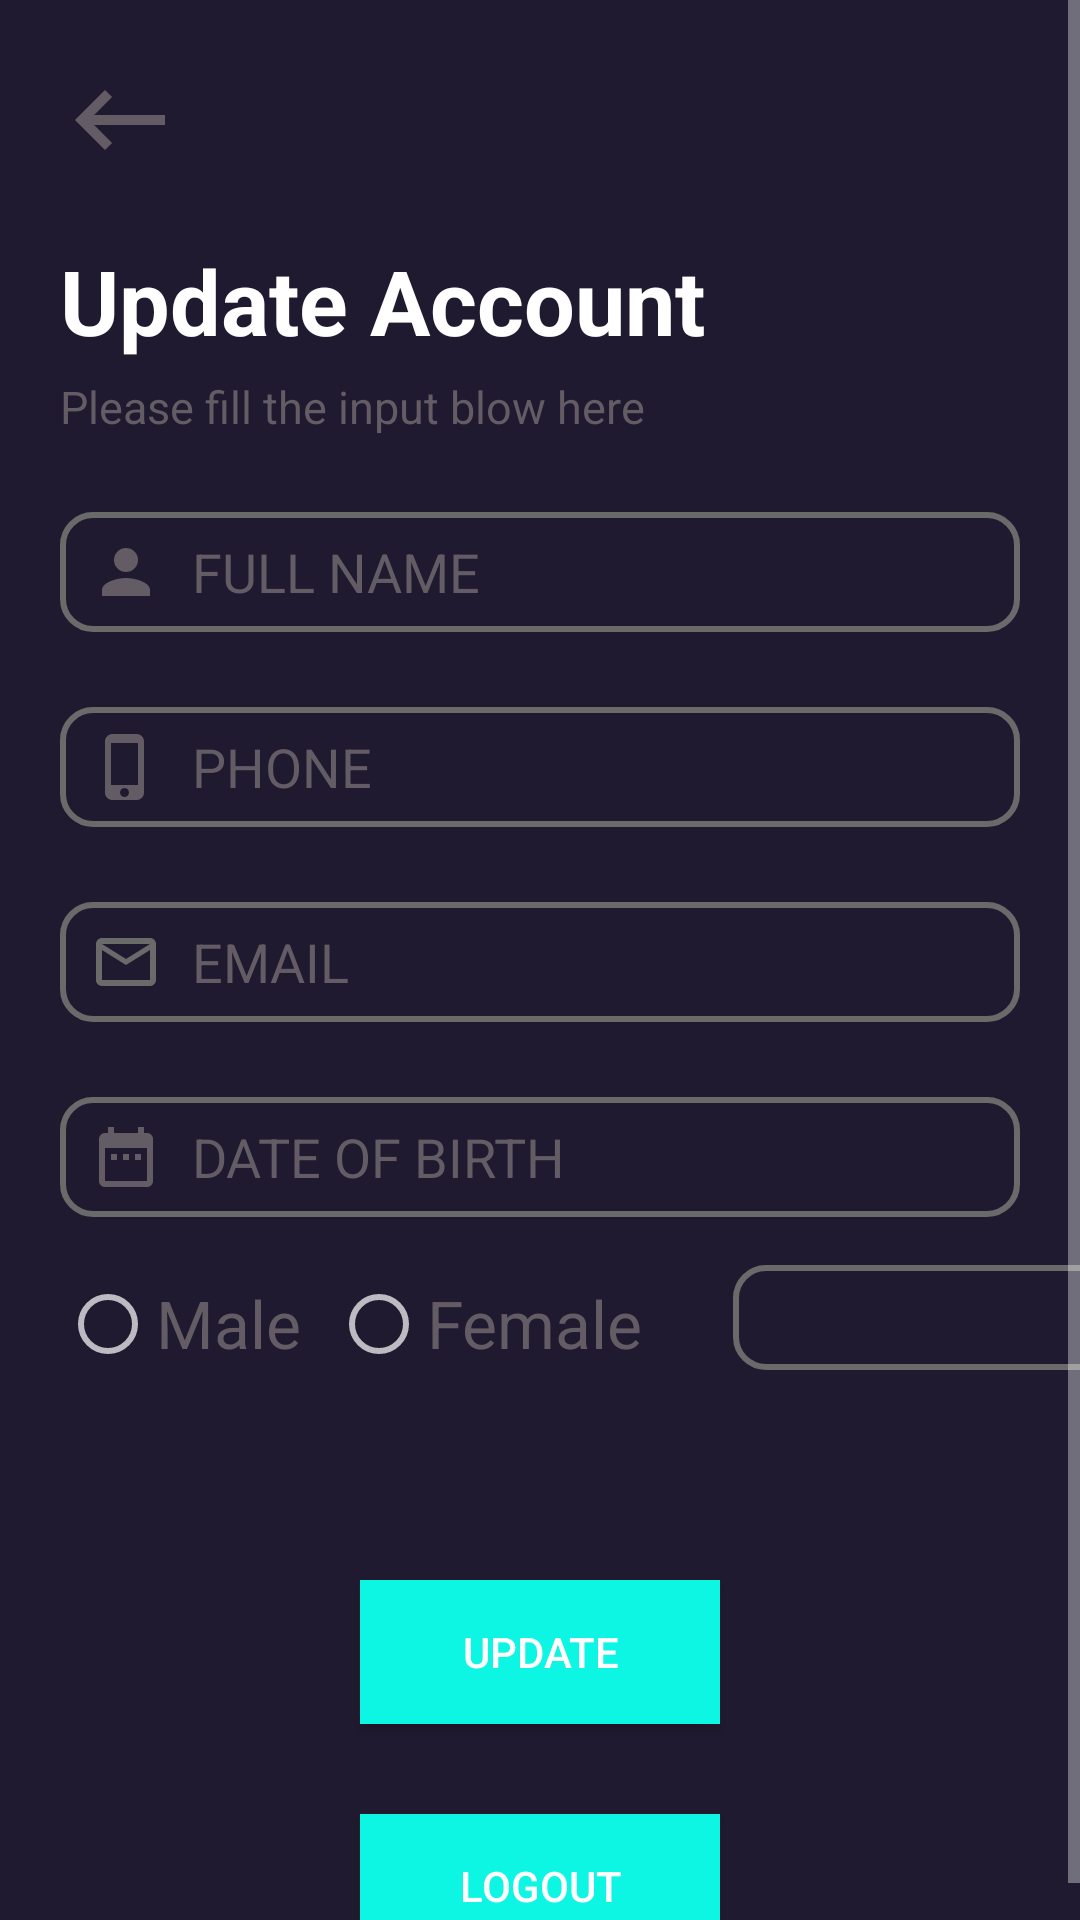

Where icons sit on this 1080 × 1920 app screen, as (x1, y1, x2, y2):
keyboard backspace: (75, 90, 165, 150)
